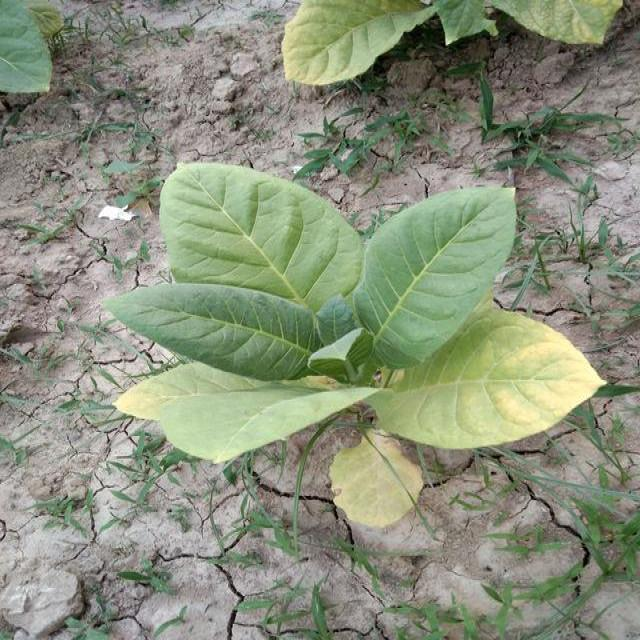crop: (105, 155, 609, 526)
